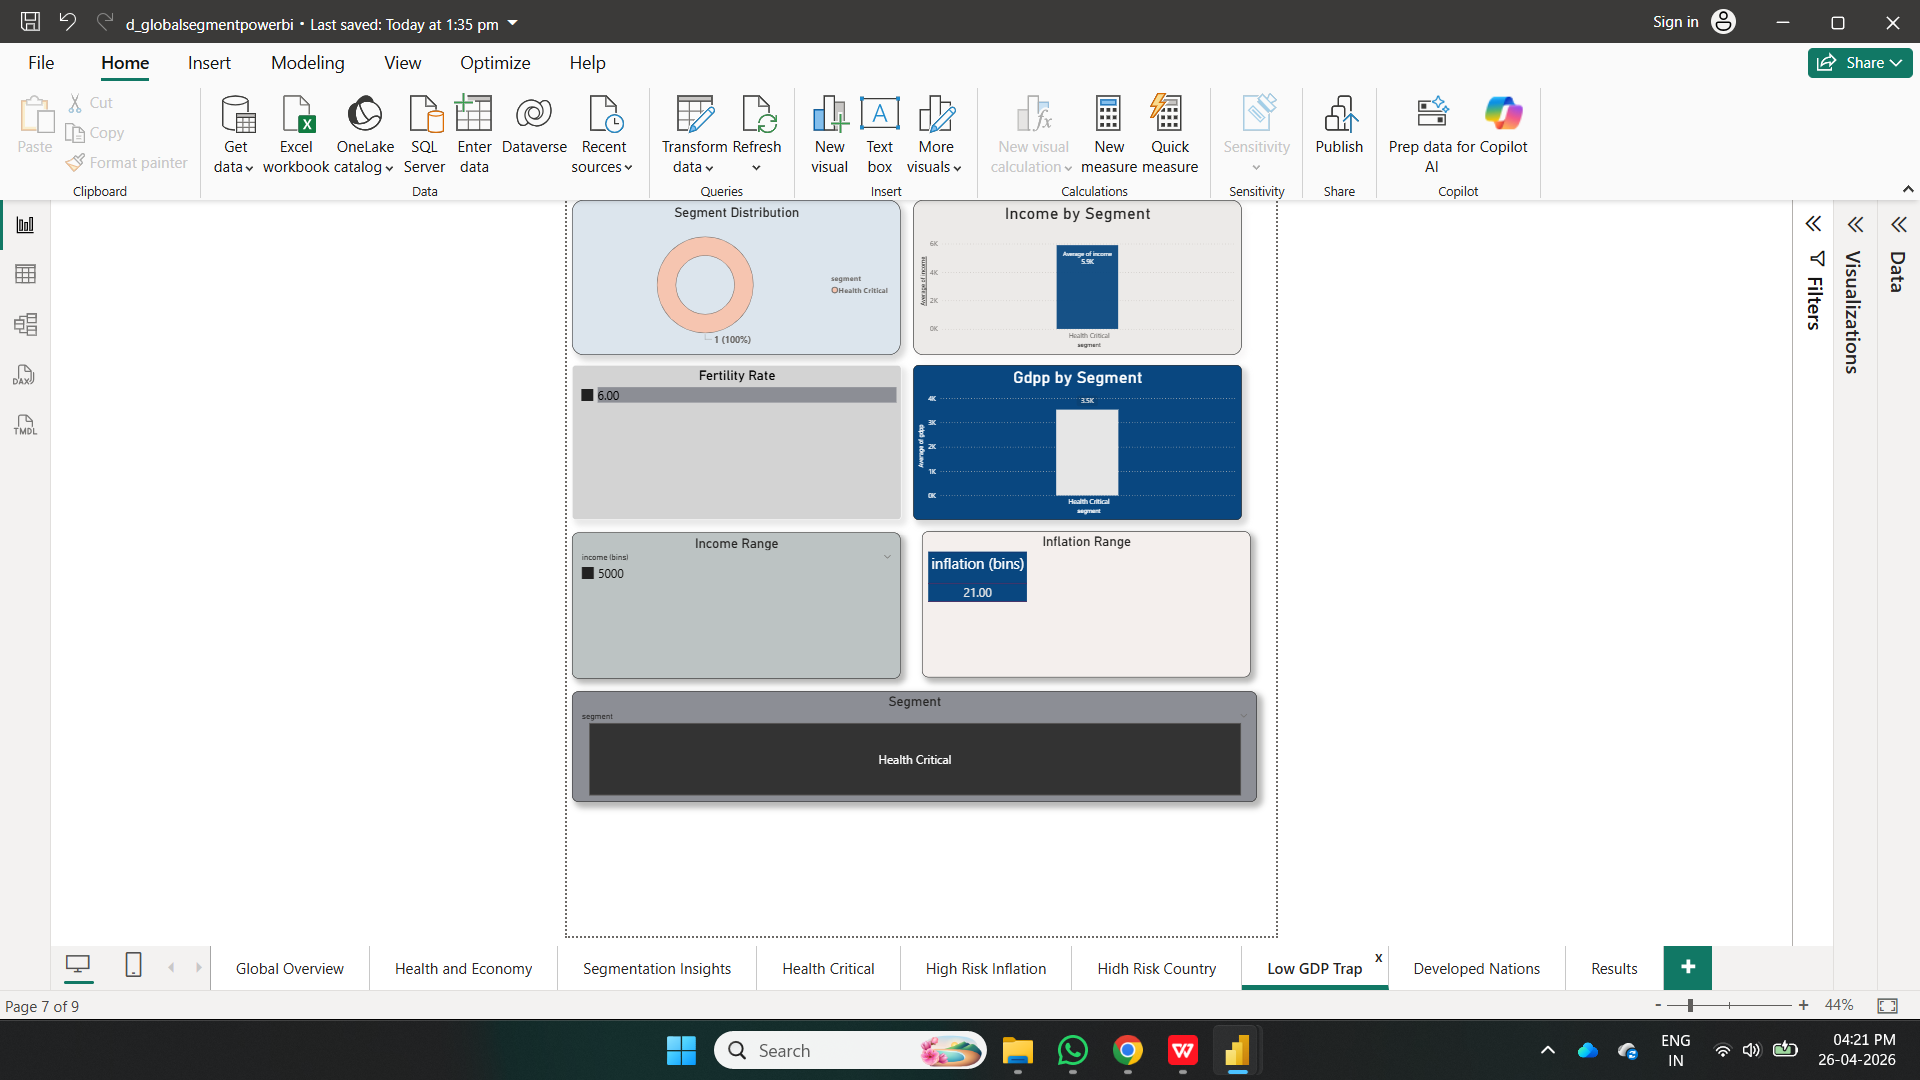

This screenshot's page, from the dashboard's own definition file:
{"tool":"powerbi","page":{"name":"Low GDP Trap","canvas":[1280,1330],"ordinal":6},"visuals":[{"type":"donutChart","title":"Segment Distribution","fields":{"Category":["country_clean.segment"],"Y":["CountNonNull(country_clean.country)"]},"box":[10,0,593.8,280],"z":0},{"type":"clusteredColumnChart","title":"Income by Segment","fields":{"Category":["country_clean.segment"],"Y":["Avg(country_clean.income)"]},"box":[626.2,0,593.8,280],"z":1000},{"type":"slicer","title":"Fertility Rate","fields":{"Values":["country_clean.total_fer (bins)"]},"box":[8.8,298.8,595,280],"z":2000},{"type":"clusteredColumnChart","title":"Gdpp by Segment","fields":{"Category":["country_clean.segment"],"Y":["Avg(country_clean.gdpp)"]},"box":[626.2,298.8,593.8,280],"z":3000},{"type":"slicer","title":"Income Range","fields":{"Values":["country_clean.income (bins)"]},"box":[10,600,593.8,263.8],"z":4000},{"type":"tableEx","title":"Inflation Range","fields":{"Values":["country_clean.inflation (bins)"]},"box":[641.2,597.5,593.8,263.8],"z":5000},{"type":"slicer","title":"Segment","fields":{"Values":["country_clean.segment"]},"box":[10,888.8,1237.5,200],"z":6000}]}

Visuals, with their boxes on the page's 1280x1330 design canvas (x1, y1, x2, y2). These are canvas units, not pixel positions in the 1920x1080 screenshot, which may show the page scaled, cropped or inside an application window:
"Segment Distribution" donutChart: x1=10 y1=0 x2=604 y2=280
"Income by Segment" clusteredColumnChart: x1=626 y1=0 x2=1220 y2=280
"Fertility Rate" slicer: x1=9 y1=299 x2=604 y2=579
"Gdpp by Segment" clusteredColumnChart: x1=626 y1=299 x2=1220 y2=579
"Income Range" slicer: x1=10 y1=600 x2=604 y2=864
"Inflation Range" tableEx: x1=641 y1=598 x2=1235 y2=861
"Segment" slicer: x1=10 y1=889 x2=1248 y2=1089
